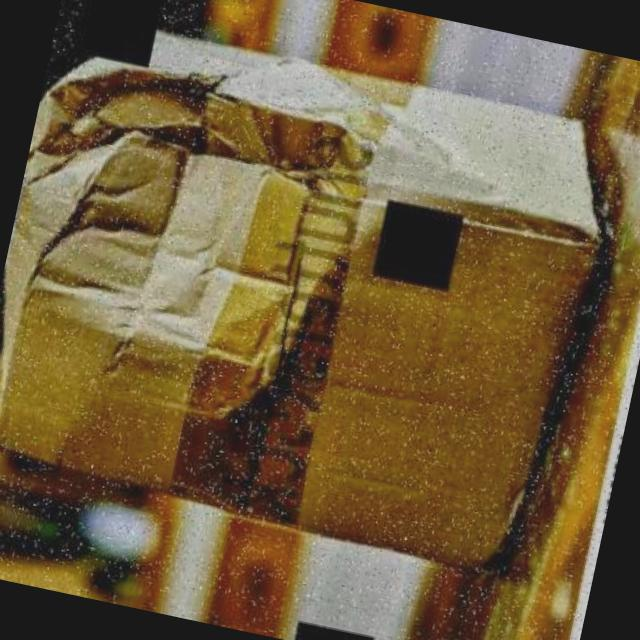box: (0, 0, 632, 587)
